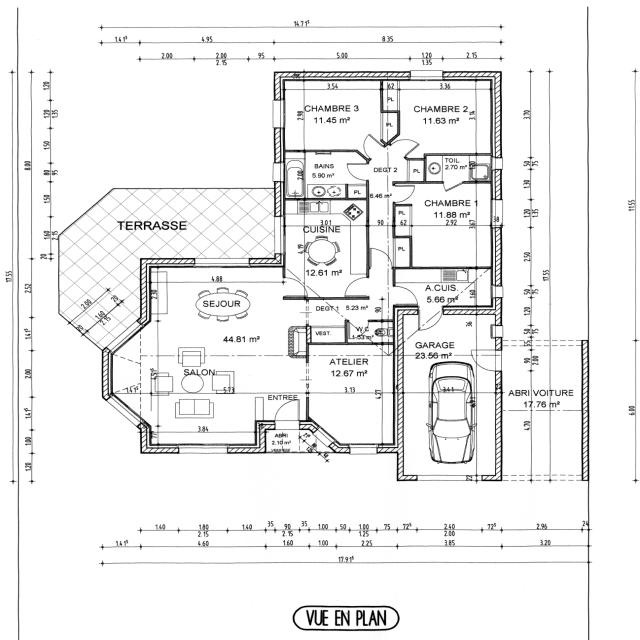door: (271, 398, 303, 426), (342, 274, 370, 299), (390, 284, 420, 306), (472, 351, 501, 372), (344, 160, 370, 182), (392, 182, 417, 204), (369, 246, 392, 268), (282, 278, 306, 298), (361, 132, 383, 150)
window: (174, 443, 232, 457), (414, 473, 469, 484), (271, 96, 287, 133), (344, 442, 382, 457), (275, 219, 288, 256), (492, 192, 504, 225), (408, 71, 444, 81), (273, 159, 285, 184), (316, 448, 333, 462)
zone: (402, 310, 498, 480), (149, 324, 267, 449), (112, 186, 274, 262), (147, 261, 287, 323), (393, 184, 496, 268), (283, 200, 368, 299), (389, 80, 497, 156), (280, 81, 386, 151), (313, 391, 395, 450), (306, 350, 397, 394), (285, 152, 370, 198), (393, 268, 492, 307), (304, 296, 388, 330), (423, 154, 493, 183), (336, 302, 392, 337), (260, 422, 316, 453), (346, 320, 394, 343), (307, 325, 346, 343), (404, 158, 425, 183)
